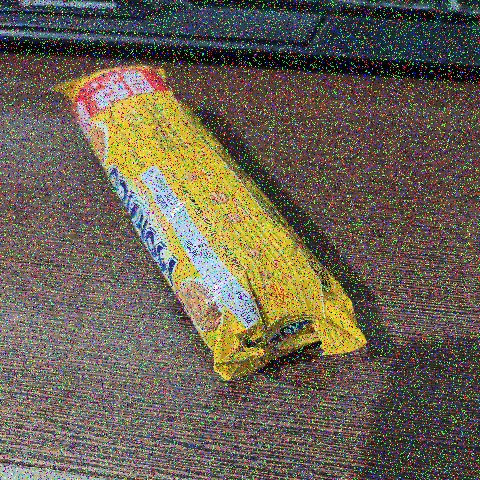monaco: (38, 60, 386, 381)
